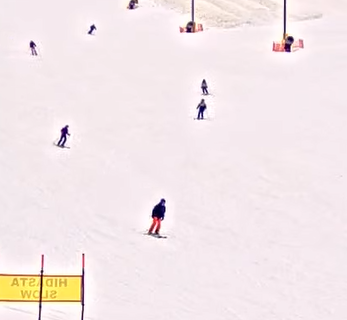skier: (140, 194, 168, 240), (47, 121, 75, 152), (192, 98, 212, 120), (24, 38, 42, 59), (196, 75, 214, 96), (84, 20, 99, 37)
